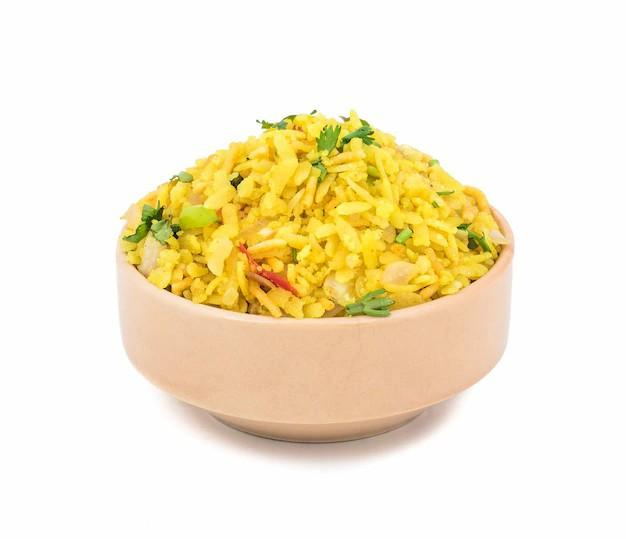Poha: (119, 105, 502, 314)
